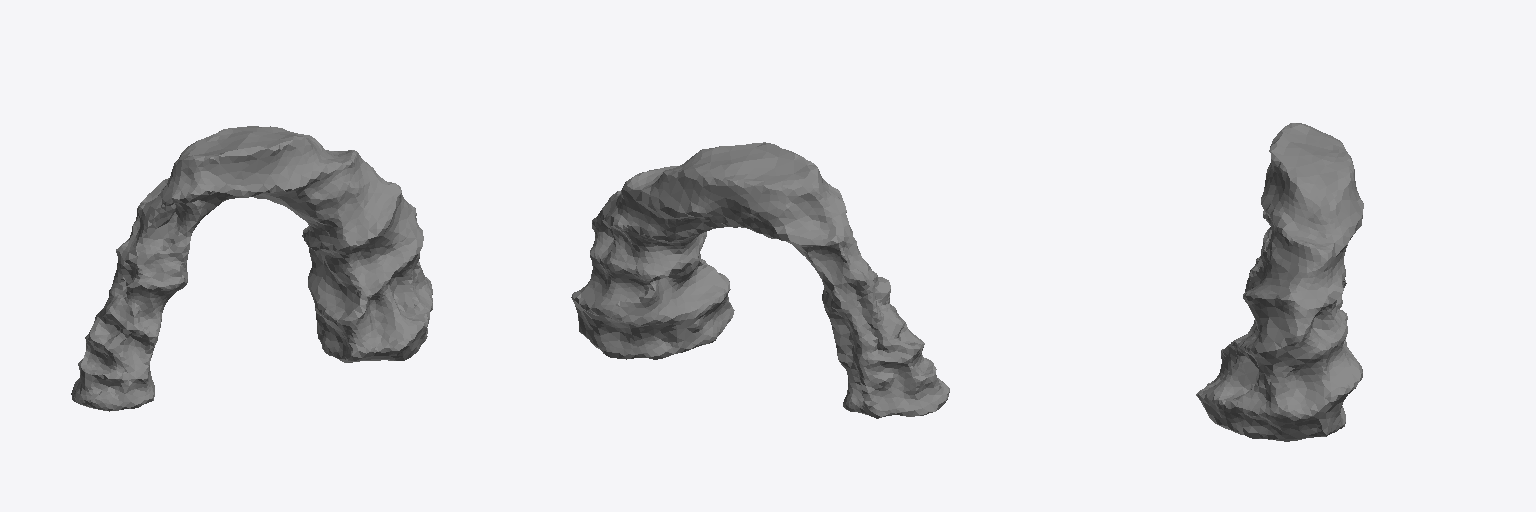
File: SmallArch_Obj.obj
3 views of the same model, side by side, from view 1: azimuth 30°, elevation 25°; view 2: azimuth 150°, elevation 25°; view 3: azimuth 270°, elevation 25° (orthographic).
Visible parts, largest first — view 1: Arch Small; view 2: Arch Small; view 3: Arch Small.
Boxes of the visible parts, <box> form: Arch Small: <box>71,126,432,411</box>; Arch Small: <box>571,142,949,418</box>; Arch Small: <box>1196,123,1363,441</box>.
Bounding box in the file's own units: 137 × 81.98 × 56.15.